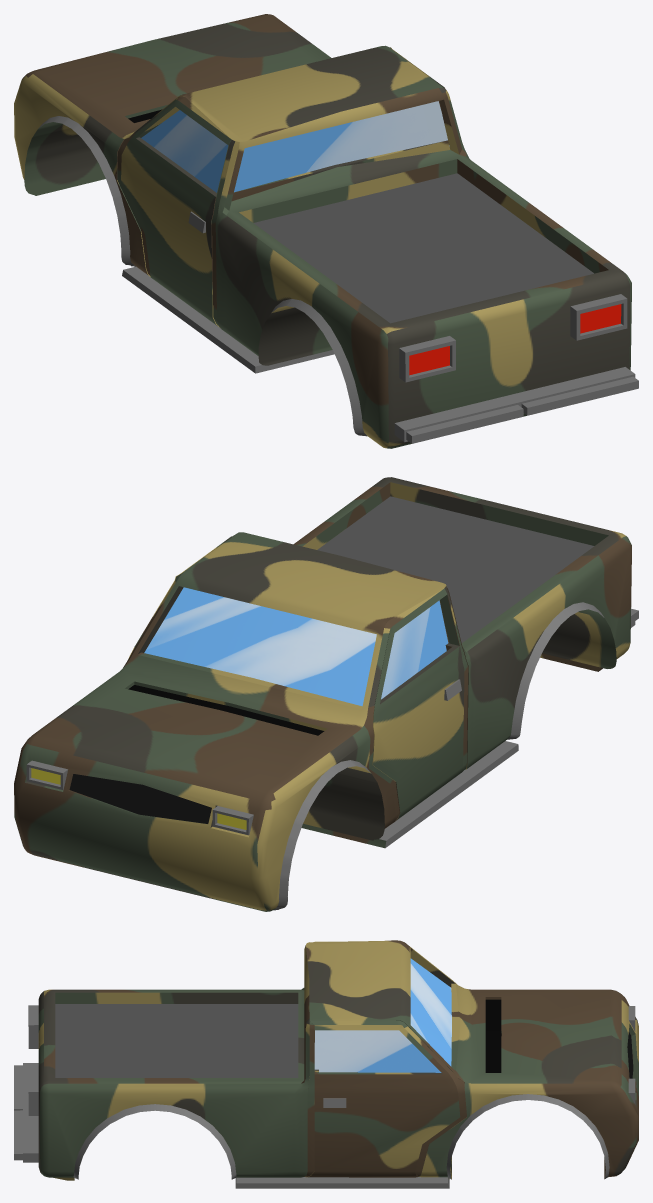
The model's file is car_final.fbx.
3 renders of one model, top to bottom at view 1: azimuth 30°, elevation 25°; view 2: azimuth 150°, elevation 25°; view 3: azimuth 270°, elevation 25°, orthographic. The views are drawn at different scales.
Parts seen in each view (by area): view 1: Cube.002; view 2: Cube.002; view 3: Cube.002.
Boxes of the visible parts, x1,y1,x2,y2 form: Cube.002: (14, 14, 638, 448); Cube.002: (14, 477, 638, 911); Cube.002: (14, 940, 638, 1188).
Bounding box in the file's own units: 1.87 × 1.32 × 4.75.
